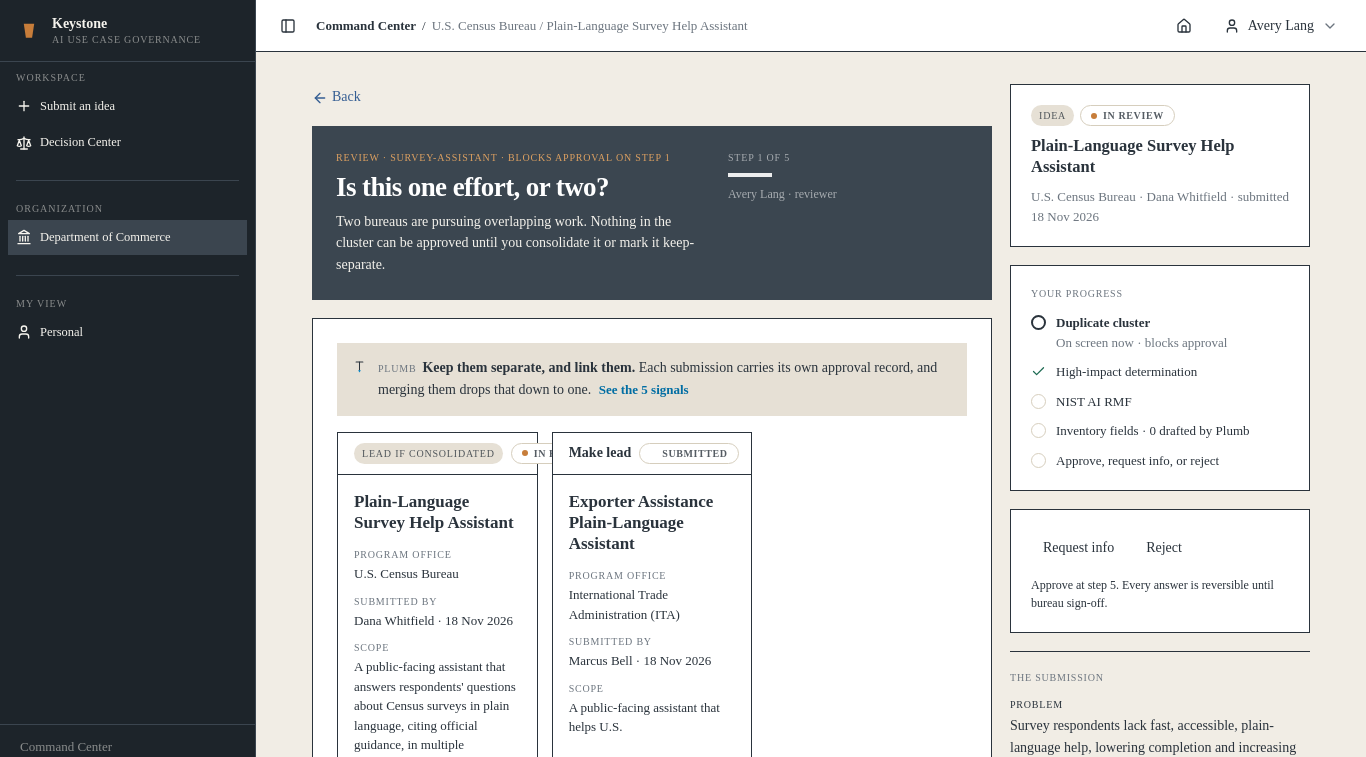
Test: /submissions/[id] — undecided (in-review) record — cluster blocks step 1 (RD-6) › disables Approve with the block reason at step 5 while the cluster is pending
Click the button "Approve, request info, or reject" at (1160, 461), box [1031, 451, 1289, 470]
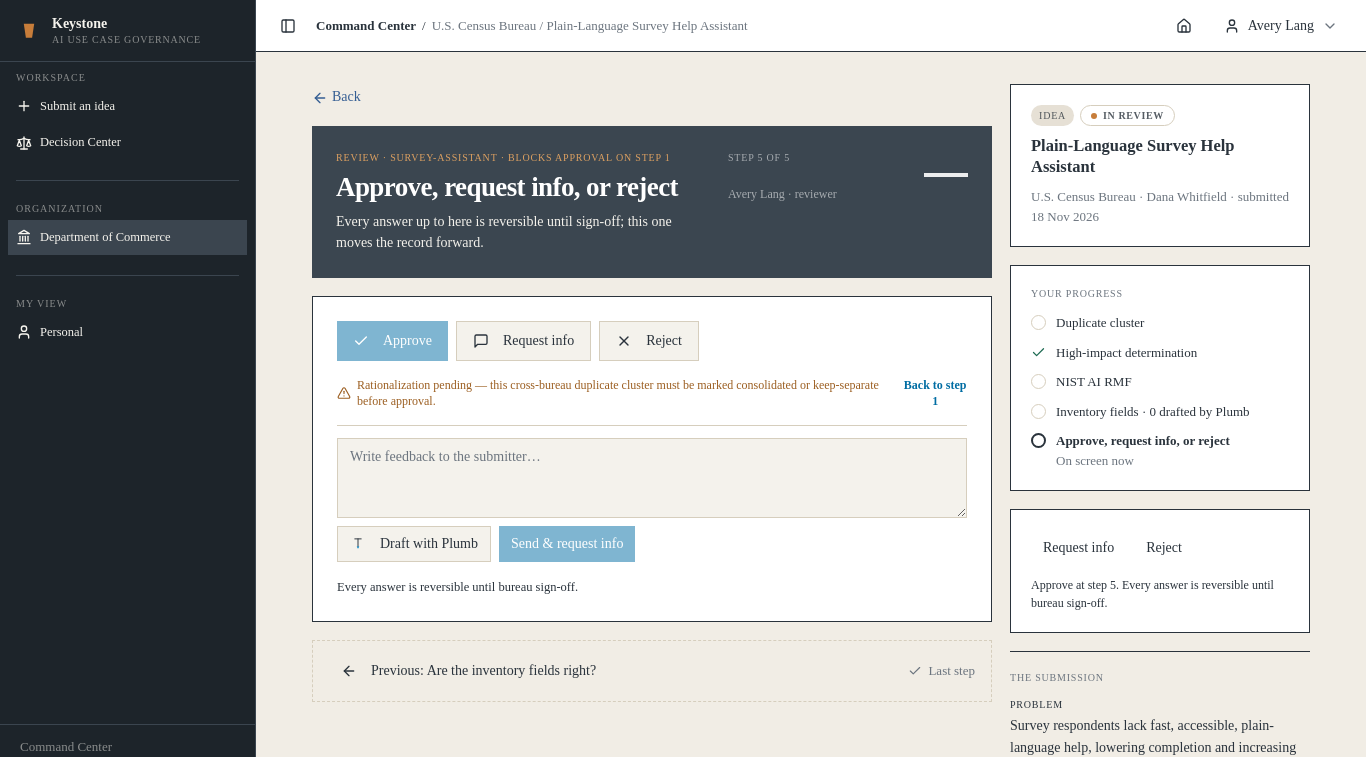
Expected: the button "Approve" is disabled, [337, 321, 448, 361]
Expected: the text "Rationalization pending" is shown, [357, 378, 879, 408]
Expected: the text "Back to step 1" is shown, [903, 377, 967, 409]
